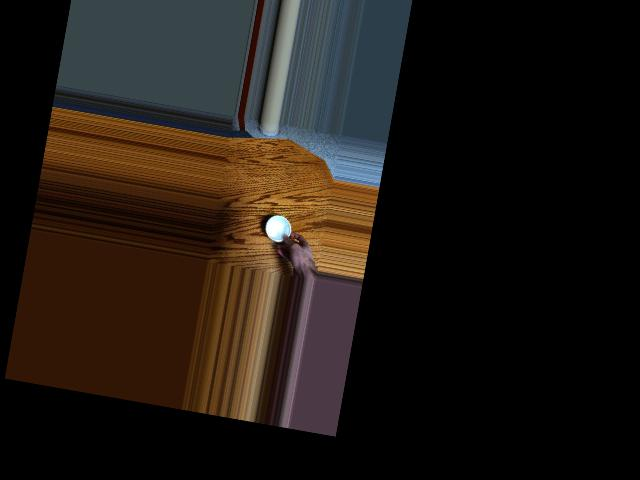cotage: (261, 212, 296, 244)
